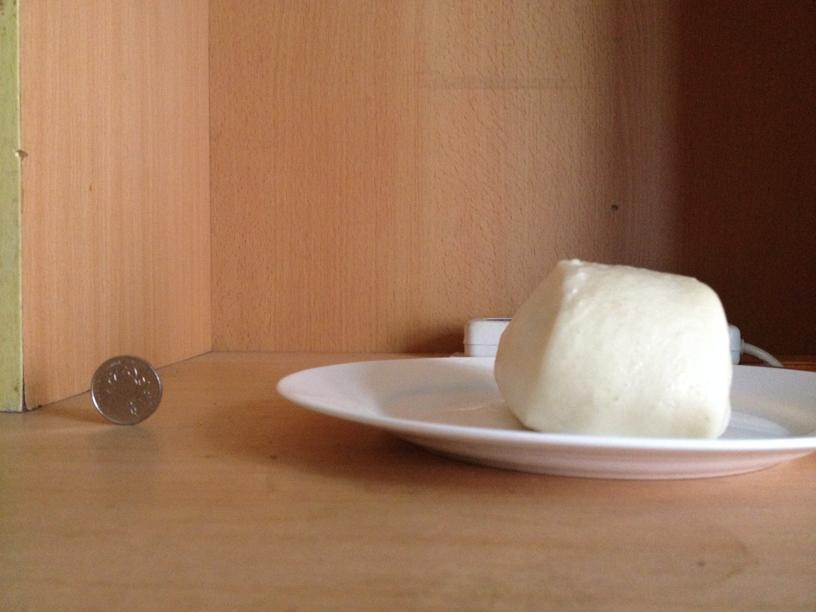bun: (490, 254, 733, 438)
coin: (90, 355, 161, 424)
